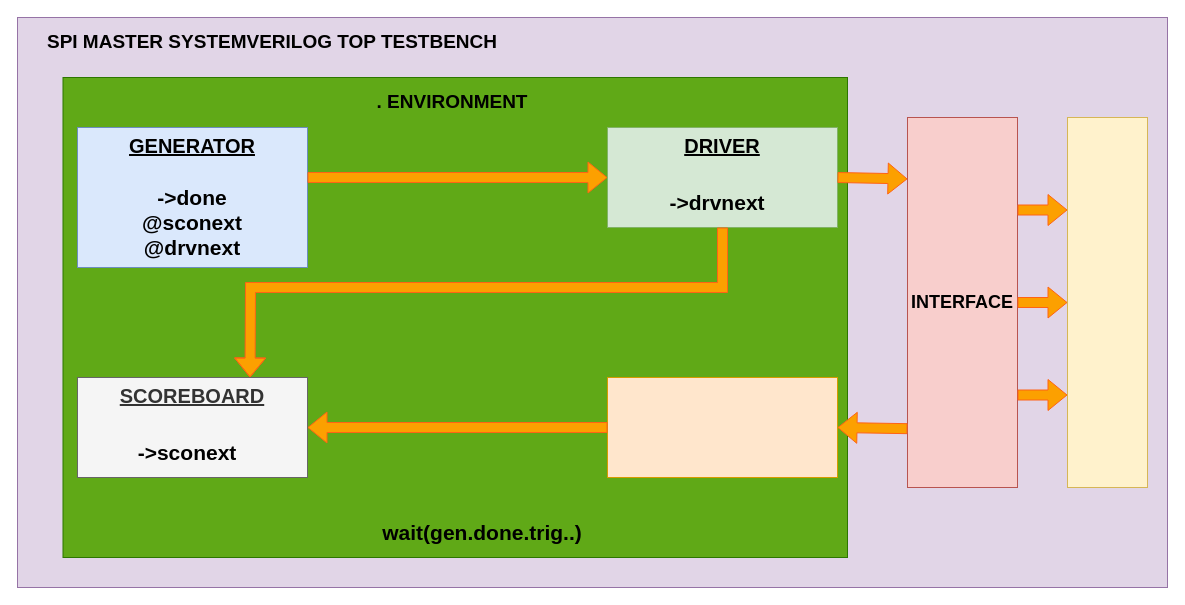
This 1185x605 diagram has some shape labels left out. The shapes that lost their labels are listed below. From the top down, each one's centre as x and y in pixels, then its label:
At point (1107, 302): "DUT".
At point (722, 427): "MONITOR".
